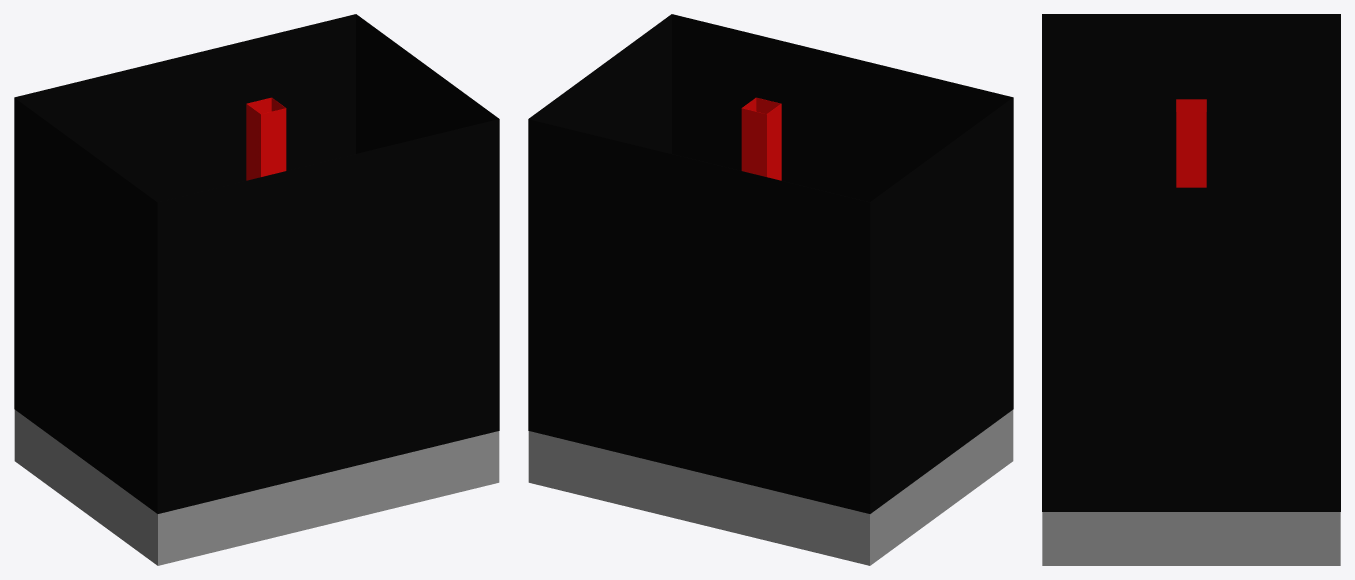
Rendered from NASA_field.dae.
3 renders of one model, left to right at view 1: azimuth 30°, elevation 25°; view 2: azimuth 150°, elevation 25°; view 3: azimuth 270°, elevation 25°, orthographic. The views are drawn at different scales.
Parts seen in each view (by area): view 1: 661f02c5576c6477c5747389 (×3); view 2: 661f02c5576c6477c5747389 (×3); view 3: 661f02c5576c6477c5747389 (×3).
Part boxes in pixels (<box>): 661f02c5576c6477c5747389 (×3): <box>14,14,499,565</box>; 661f02c5576c6477c5747389 (×3): <box>528,14,1013,565</box>; 661f02c5576c6477c5747389 (×3): <box>1042,14,1340,565</box>.
Size of the model in its own units: 6.89 by 5.01 by 7.
